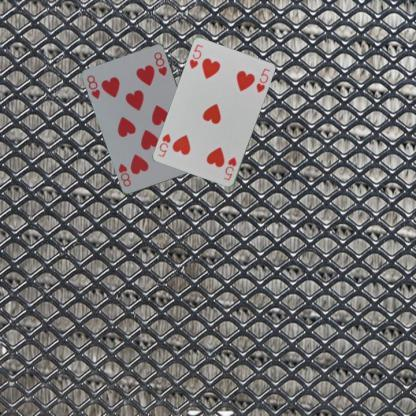5h: (186, 42, 204, 70), (221, 154, 238, 182)
8h: (84, 73, 102, 100)
